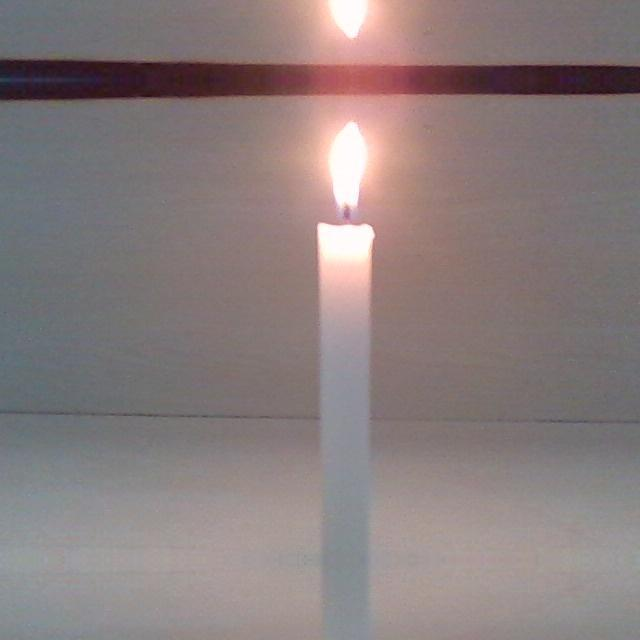smoke: (324, 120, 370, 218), (324, 0, 369, 40)
